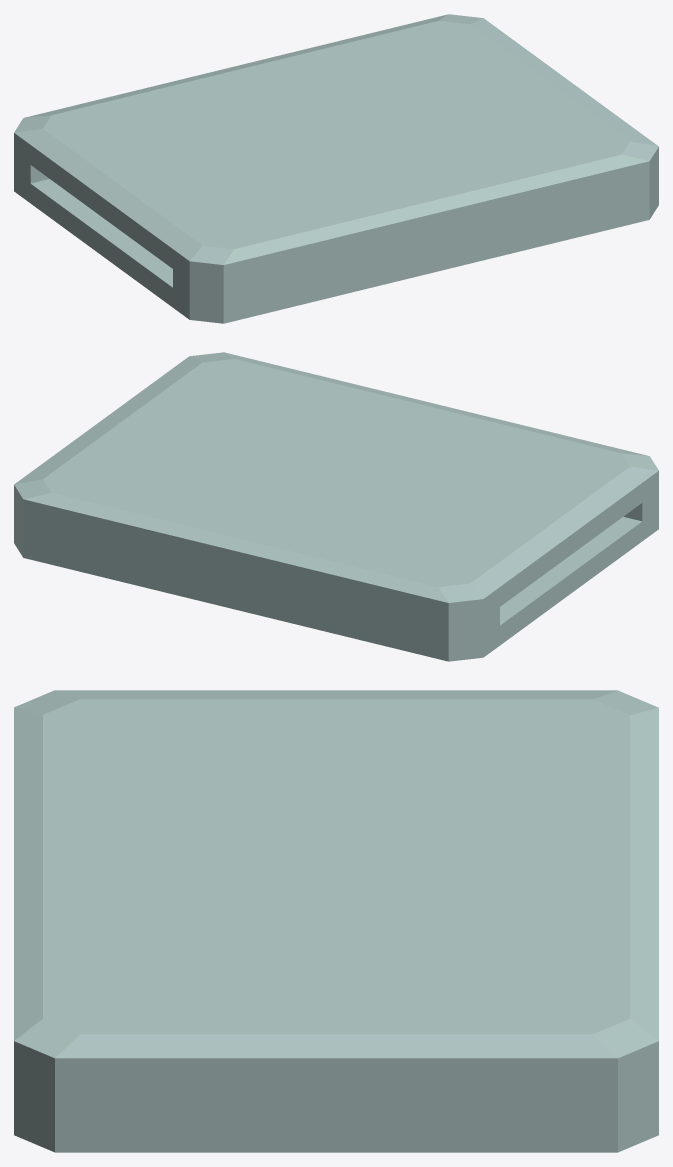
Rendered from Card_Key2.fbx.
The picture shows the model from 3 angles, top to bottom: view 1: azimuth 30°, elevation 25°; view 2: azimuth 150°, elevation 25°; view 3: azimuth 270°, elevation 25°; orthographic projection. The views are drawn at different scales.
Visible parts, largest first — view 1: Plane.001; view 2: Plane.001; view 3: Plane.001.
Part boxes in pixels (<box>): Plane.001: <box>14,14,658,323</box>; Plane.001: <box>14,352,658,661</box>; Plane.001: <box>14,690,658,1152</box>.
Size of the model in its own units: 81 by 10.43 by 60.01.
